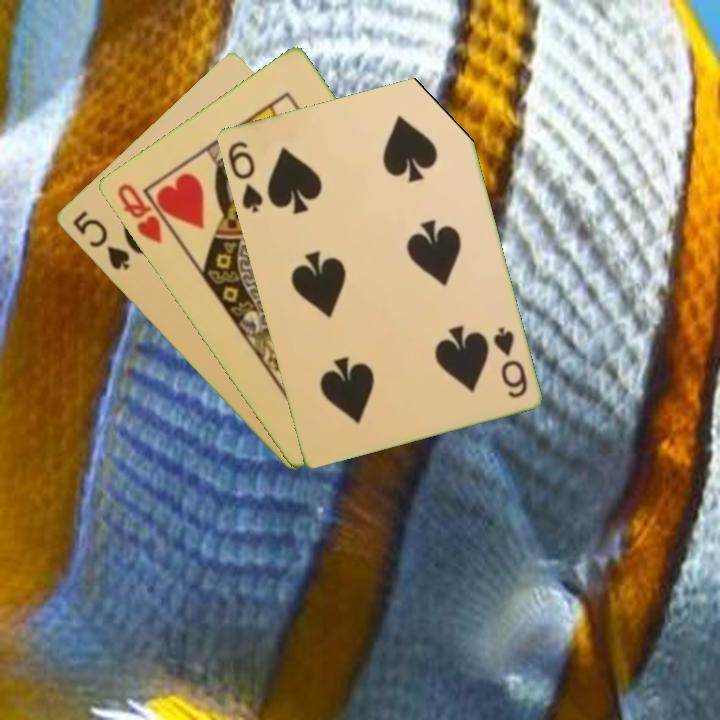5s: (68, 207, 132, 274)
6s: (224, 137, 266, 216), (489, 323, 530, 401)
Qh: (113, 179, 165, 247)
